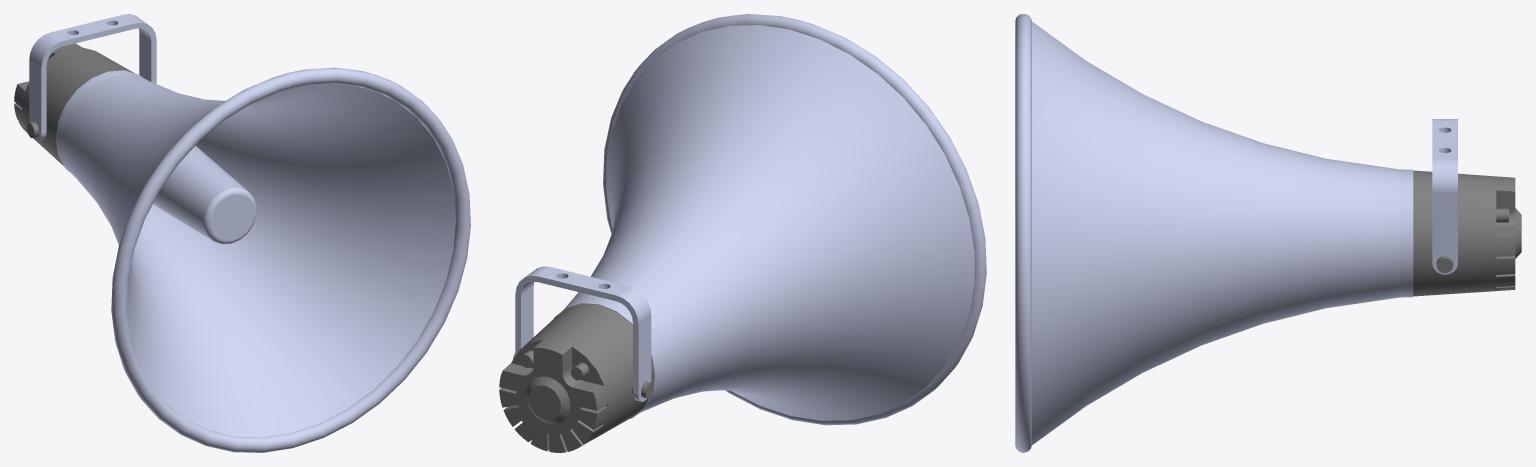
Rendered from loudspeaker.fbx.
3 views of the same model, side by side, from view 1: azimuth 30°, elevation 25°; view 2: azimuth 150°, elevation 25°; view 3: azimuth 270°, elevation 25° (orthographic). The views are drawn at different scales.
Parts seen in each view (by area): view 1: stitch_result_stitch all; view 2: stitch_result_stitch all; view 3: stitch_result_stitch all.
Boxes of the visible parts, x1=… form: stitch_result_stitch all: x1=14, y1=14, x2=470, y2=452; stitch_result_stitch all: x1=499, y1=14, x2=986, y2=452; stitch_result_stitch all: x1=1015, y1=14, x2=1521, y2=452.
Size of the model in its own units: 343 by 345 by 397.
